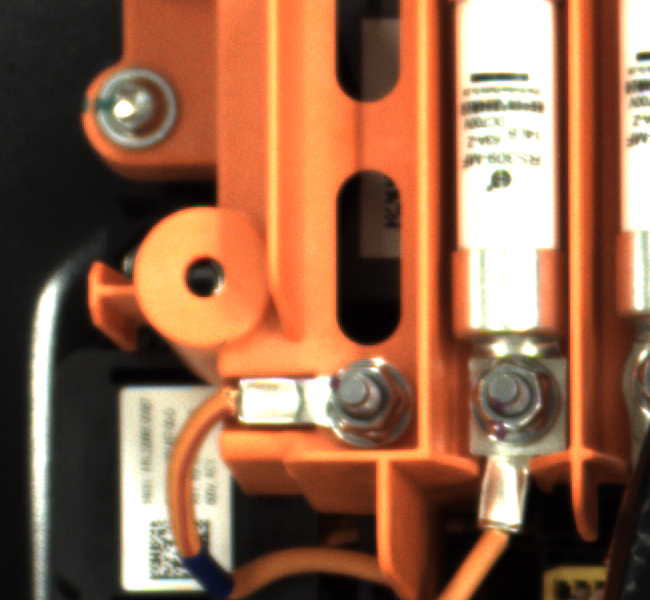screw_m: (79, 54, 202, 165)
screw_s: (459, 345, 560, 442), (322, 358, 416, 453)
